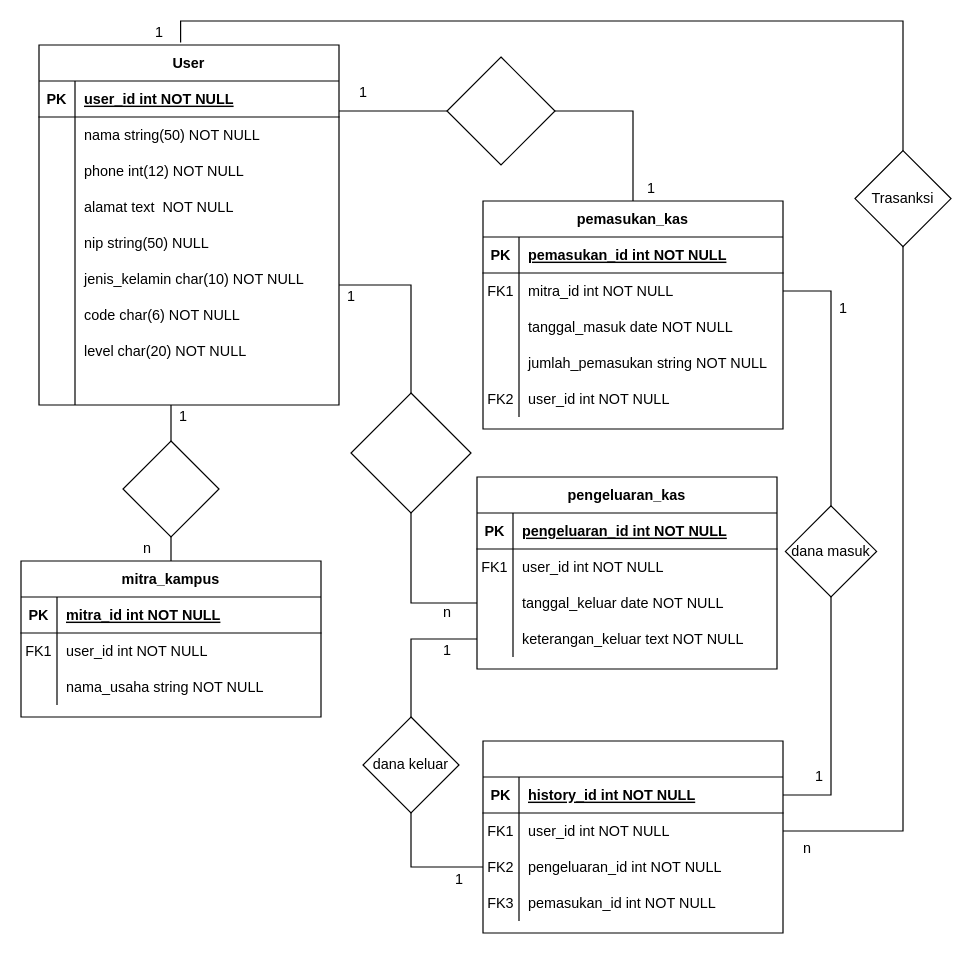
This 972x954 diagram has some shape labels left out. Each missing label, with the box of its shape:
history_kas: (482, 740, 783, 933)
memiliki: (122, 440, 219, 537)
mengeluarkan: (350, 392, 471, 513)
menyetor: (446, 56, 555, 165)
